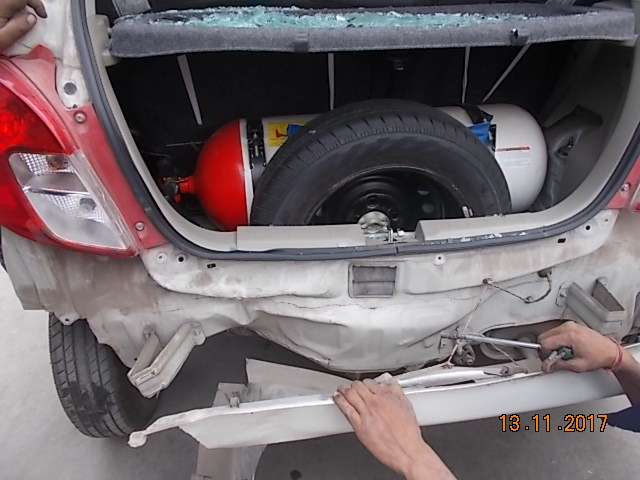Large_tear_or_damage: (14, 177, 639, 437)
